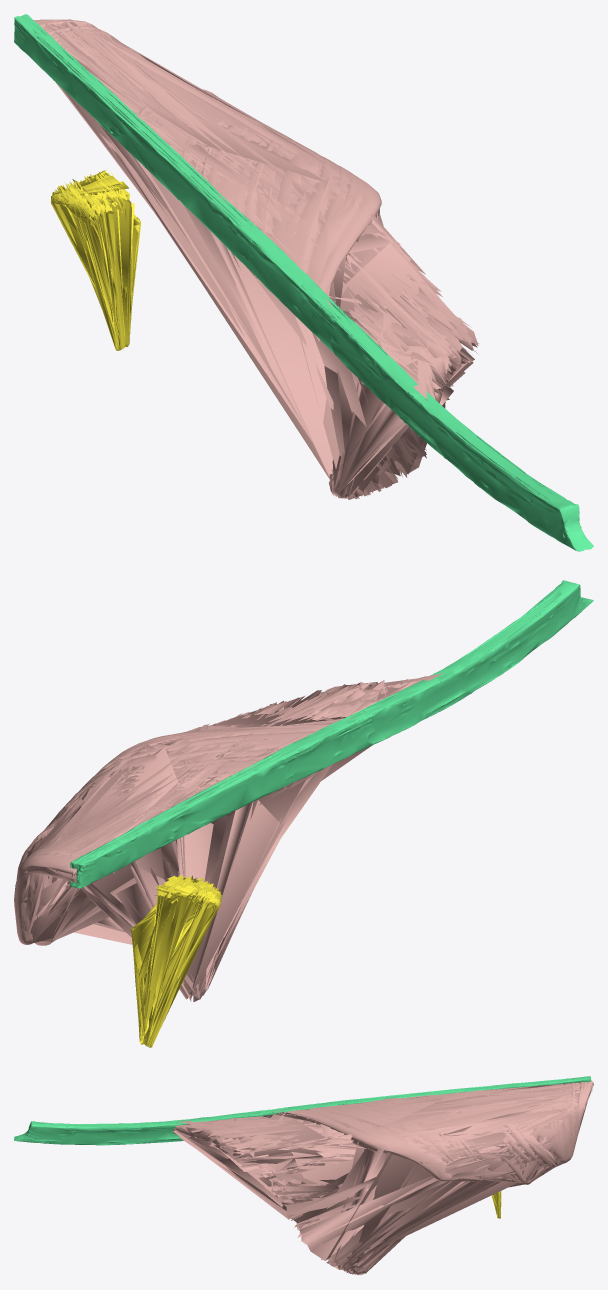
Rendered from organ-pharynx-larynx.glb.
3 views of the same model, one above another, from view 1: azimuth 30°, elevation 25°; view 2: azimuth 150°, elevation 25°; view 3: azimuth 270°, elevation 25° (orthographic). The views are drawn at different scales.
Visible parts, largest first — view 1: Pharynx_Constrictors, Pharyngeal_Raphe, Vocal_Cords_Ligaments; view 2: Pharynx_Constrictors, Pharyngeal_Raphe, Vocal_Cords_Ligaments; view 3: Pharynx_Constrictors, Pharyngeal_Raphe.
Boxes of the visible parts, box(x1,y1,x2,y2) form: Pharynx_Constrictors: box(33, 19, 478, 499); Pharyngeal_Raphe: box(14, 14, 593, 551); Vocal_Cords_Ligaments: box(51, 169, 140, 350); Pharynx_Constrictors: box(14, 673, 443, 1001); Pharyngeal_Raphe: box(70, 580, 593, 888); Vocal_Cords_Ligaments: box(131, 875, 222, 1047); Pharynx_Constrictors: box(172, 1080, 593, 1275); Pharyngeal_Raphe: box(14, 1076, 592, 1145).
Size of the model in its own units: 0.1166 by 0.1653 by 0.5.
